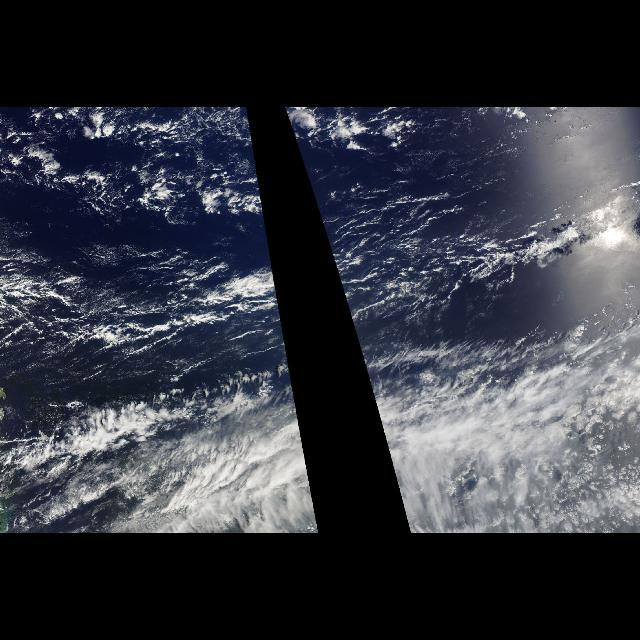Fish: (2, 120, 288, 342), (318, 209, 628, 341)
Sugar: (357, 159, 513, 321)
